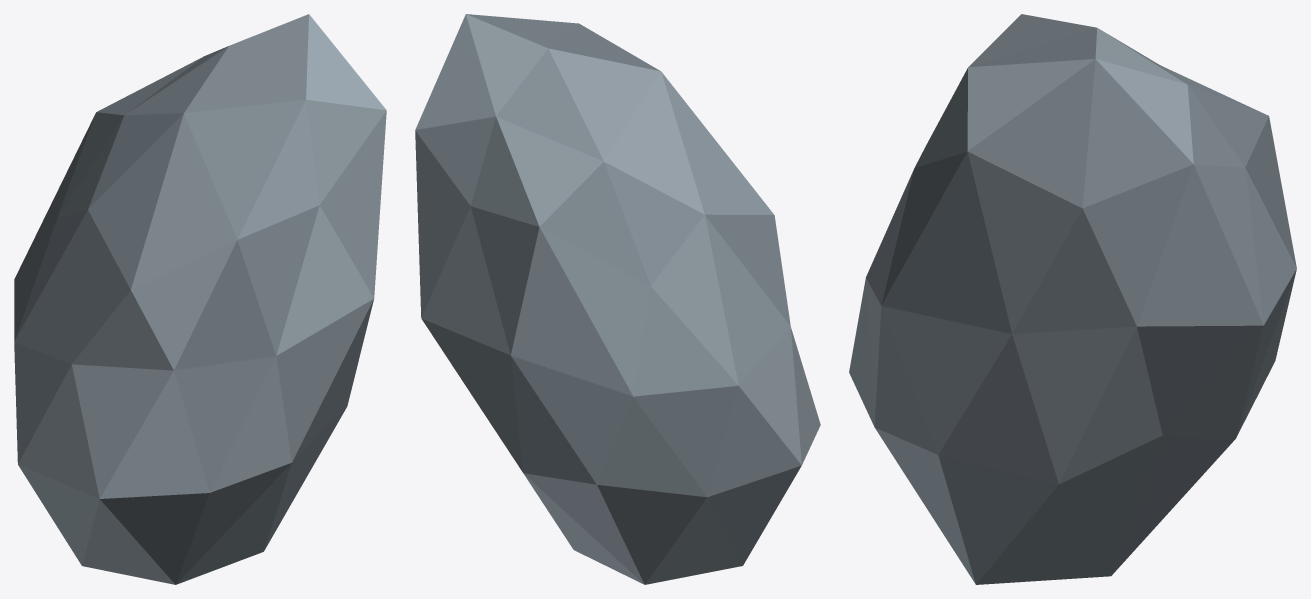
Rendered from rock_angular_slate.glb.
The picture shows the model from 3 angles, left to right: view 1: azimuth 30°, elevation 25°; view 2: azimuth 150°, elevation 25°; view 3: azimuth 270°, elevation 25°; orthographic projection. The views are drawn at different scales.
Parts seen in each view (by area): view 1: Angular slate boulder; view 2: Angular slate boulder; view 3: Angular slate boulder.
Boxes of the visible parts, box(x1,y1,x2,y2) form: Angular slate boulder: box(14, 14, 386, 584); Angular slate boulder: box(415, 14, 820, 584); Angular slate boulder: box(849, 14, 1296, 584).
Bounding box in the file's own units: 1.18 × 1.63 × 1.14.
